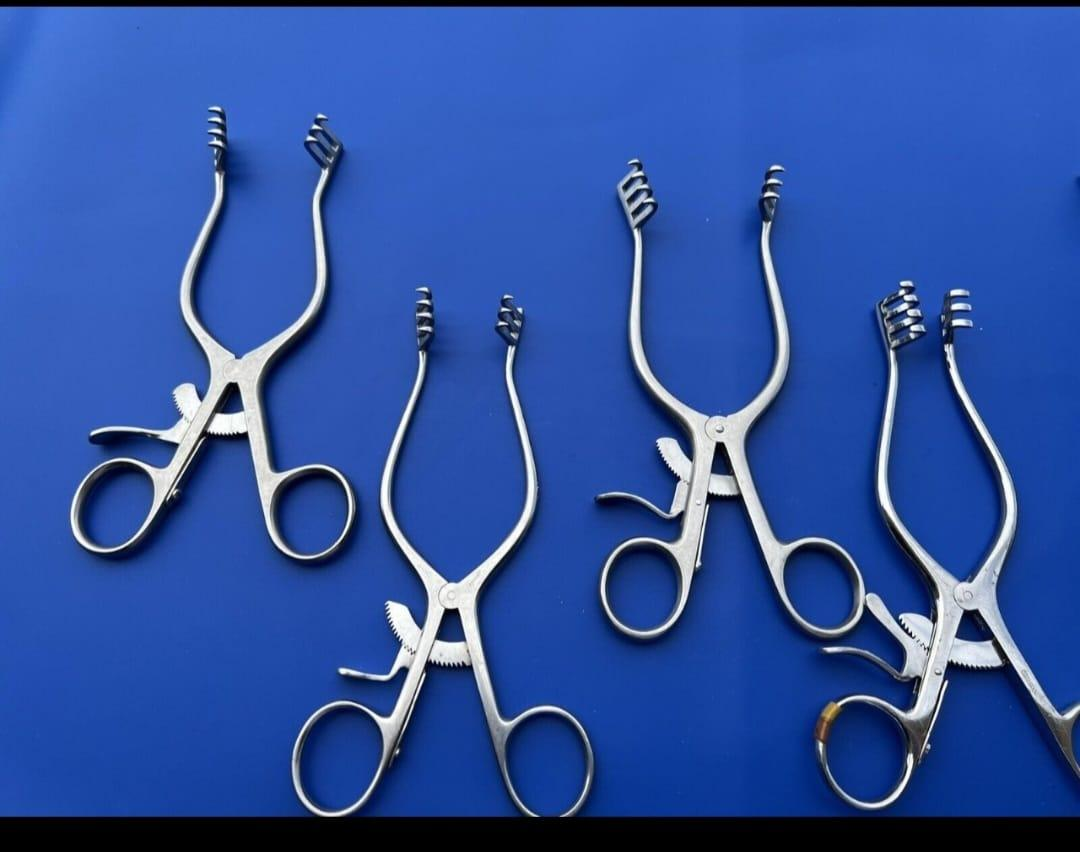Self Retractor: (286, 284, 595, 819), (818, 265, 1078, 813), (61, 103, 361, 572), (592, 154, 868, 639)
